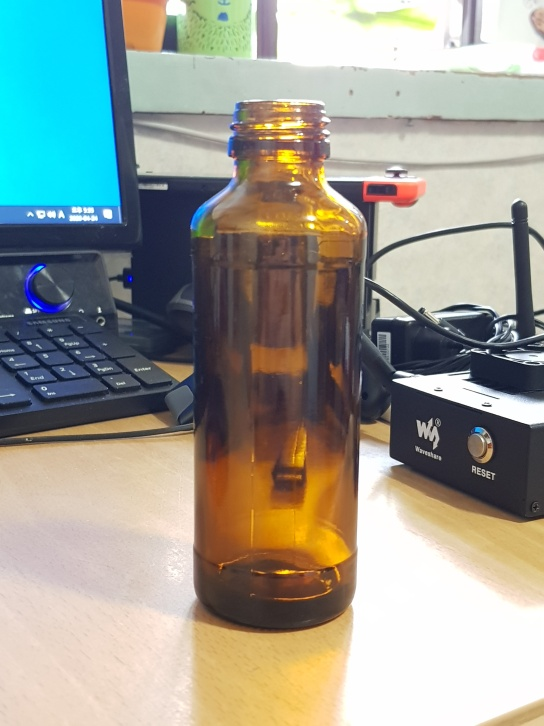Glass: (188, 98, 363, 630)
